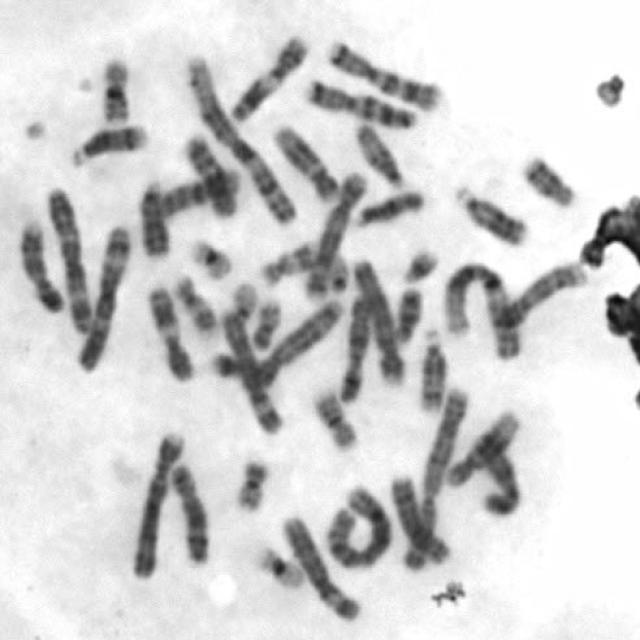A1: (178, 50, 299, 228), (437, 255, 526, 363)
A2: (398, 381, 472, 572), (321, 485, 394, 579)
A3: (72, 219, 135, 373), (40, 180, 95, 334)
B4: (125, 426, 187, 582), (345, 252, 411, 391)
B5: (300, 165, 370, 302), (250, 296, 344, 388)
C10: (177, 126, 238, 220), (153, 162, 242, 220)
C11: (226, 26, 312, 125), (142, 279, 198, 385)
C12: (441, 404, 526, 488), (266, 119, 341, 204)
C6: (276, 506, 369, 624), (215, 301, 290, 439)
C7: (322, 31, 448, 112), (301, 65, 424, 130)
C8: (385, 465, 457, 568), (164, 456, 215, 566)
C9: (492, 256, 588, 332), (14, 216, 66, 316)
D13: (450, 182, 531, 250), (130, 173, 173, 261)
D14: (61, 114, 152, 170), (412, 323, 448, 414)
D15: (350, 116, 407, 192), (347, 184, 428, 229)
E16: (92, 47, 136, 128), (308, 385, 361, 452)
E17: (255, 232, 320, 290), (168, 268, 218, 340)
E18: (516, 147, 579, 210), (388, 281, 425, 345)
F19: (251, 539, 307, 591), (183, 232, 236, 282)
F20: (229, 452, 273, 514), (246, 294, 283, 352)
G21: (397, 242, 442, 286), (208, 352, 237, 379)
G22: (223, 274, 260, 327), (590, 65, 628, 111)
X: (467, 428, 527, 520), (333, 292, 377, 406)
